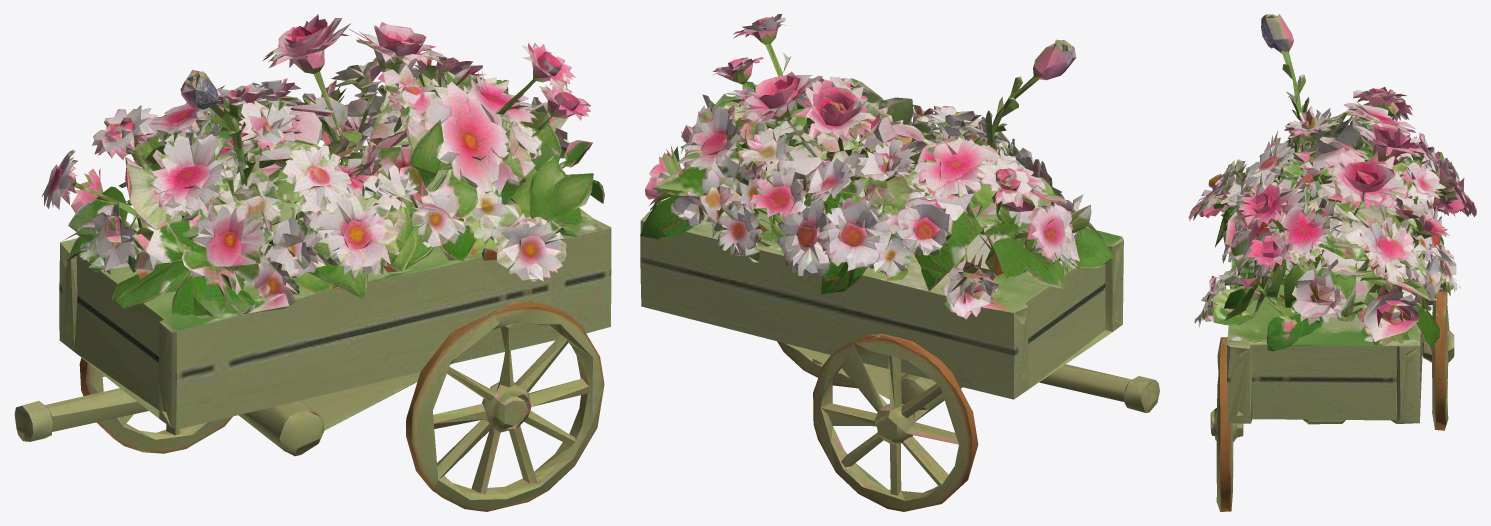
File: flower_cart.glb
The picture shows the model from 3 angles, left to right: view 1: azimuth 30°, elevation 25°; view 2: azimuth 150°, elevation 25°; view 3: azimuth 270°, elevation 25°; orthographic projection. The views are drawn at different scales.
Size of the model in its own units: 1.9 by 1.6 by 1.09.
1 material, 1 textured.
